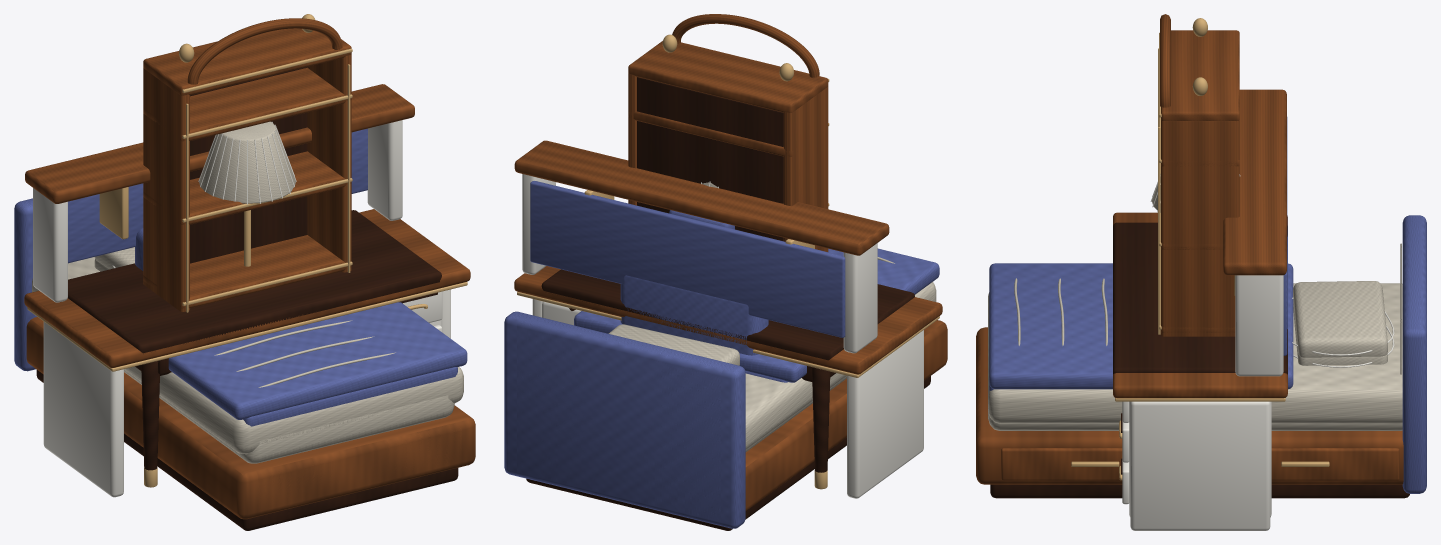
The model's file is study-furniture-c60a1e02be21.glb.
The picture shows the model from 3 angles, left to right: view 1: azimuth 30°, elevation 25°; view 2: azimuth 150°, elevation 25°; view 3: azimuth 270°, elevation 25°; orthographic projection. The views are drawn at different scales.
Parts seen in each view (by area): view 1: Framed stile, Upholstered headboard.001, Solid wood top.001, Oak frame.001, Upright, Solid wood top, Headboard seam.001, Oak frame, Back panel, Shade, Headboard seam, Brass vertical inlay (+7 smaller); view 2: Upholstered headboard, Upholstered headboard.001, Pinboard backing, Solid wood top, Framed stile, Upright, Back panel, Solid wood top.001, Oak frame.001, Seat base, Headboard seam.001, Recessed plinth.001 (+2 smaller); view 3: Upright, Framed stile, Upholstered headboard.001, Headboard seam.001, Solid wood top, Solid wood top.001, Oak frame.001, Side drawer, Recessed plinth.001, Side drawer.001, Headboard seam, Upholstered headboard (+4 smaller).
Part boxes in pixels (x1,y1,x2,y2): Framed stile: (143,18,351,311); Upholstered headboard.001: (14,199,467,419); Solid wood top.001: (68,210,441,470); Oak frame.001: (26,317,475,519); Upright: (33,120,450,497); Solid wood top: (24,84,470,367); Headboard seam.001: (32,247,463,454); Oak frame: (124,372,461,516); Back panel: (190,67,307,263); Shade: (199,121,295,203); Headboard seam: (94,259,454,463); Brass vertical inlay: (179,14,352,312); Upholstered headboard: (517,314,787,526); Upholstered headboard.001: (504,248,939,528); Pinboard backing: (530,181,845,337); Solid wood top: (514,140,942,374); Framed stile: (628,14,828,251); Upright: (522,174,923,498); Back panel: (637,77,783,241); Solid wood top.001: (541,269,914,472); Oak frame.001: (745,320,947,510); Seat base: (620,275,768,355); Headboard seam.001: (608,257,936,449); Recessed plinth.001: (526,376,930,530); Upright: (1129,275,1283,530); Framed stile: (1160,14,1239,336); Upholstered headboard.001: (989,215,1426,493); Headboard seam.001: (988,243,1402,423); Solid wood top: (1113,89,1287,398); Solid wood top.001: (1113,222,1287,374); Oak frame.001: (976,327,1403,484); Side drawer: (1271,448,1399,480); Recessed plinth.001: (990,484,1409,498); Side drawer.001: (1001,448,1122,480); Headboard seam: (988,246,1402,430); Upholstered headboard: (989,220,1426,390).
Bounding box in the file's own units: 1.9 × 2.12 × 2.06.
Materials: 10 (4 with a texture image).
